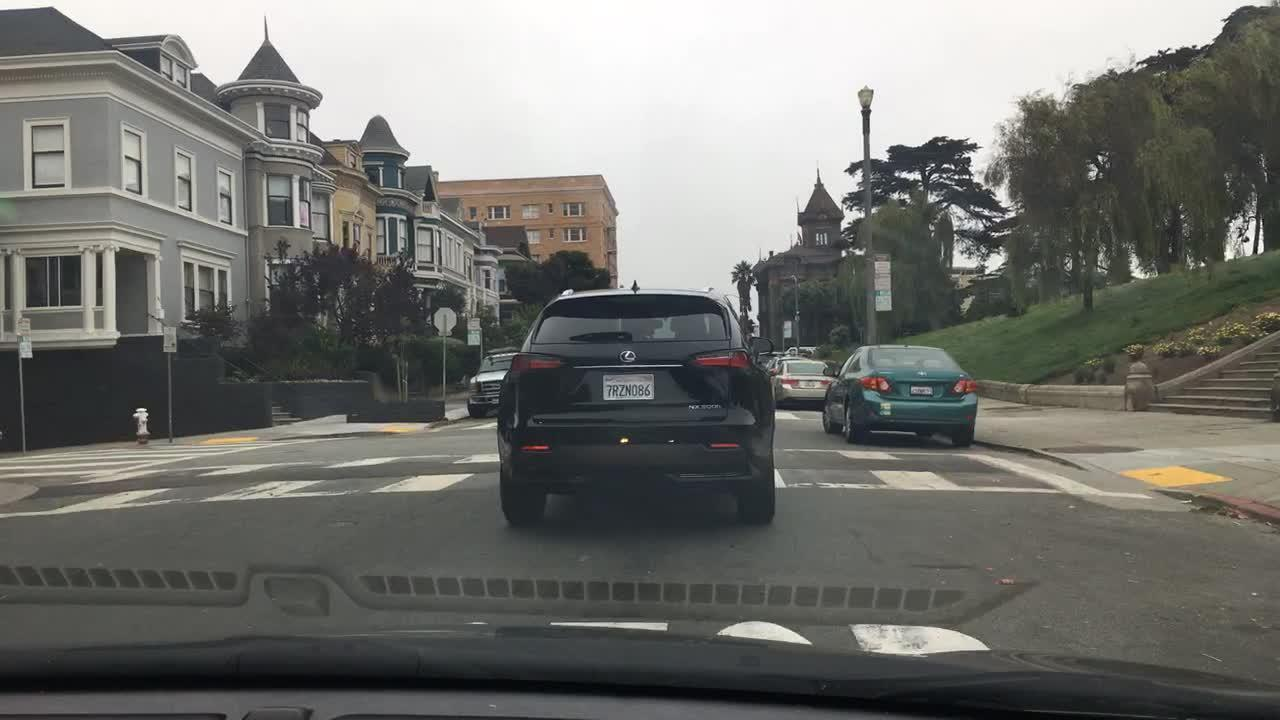lexus: (612, 343, 651, 370)
